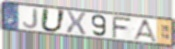9: (91, 15, 107, 37)
A: (132, 18, 159, 43)
F: (111, 15, 133, 39)
J: (22, 8, 39, 30)
U: (40, 7, 68, 33)
X: (65, 10, 88, 36)
